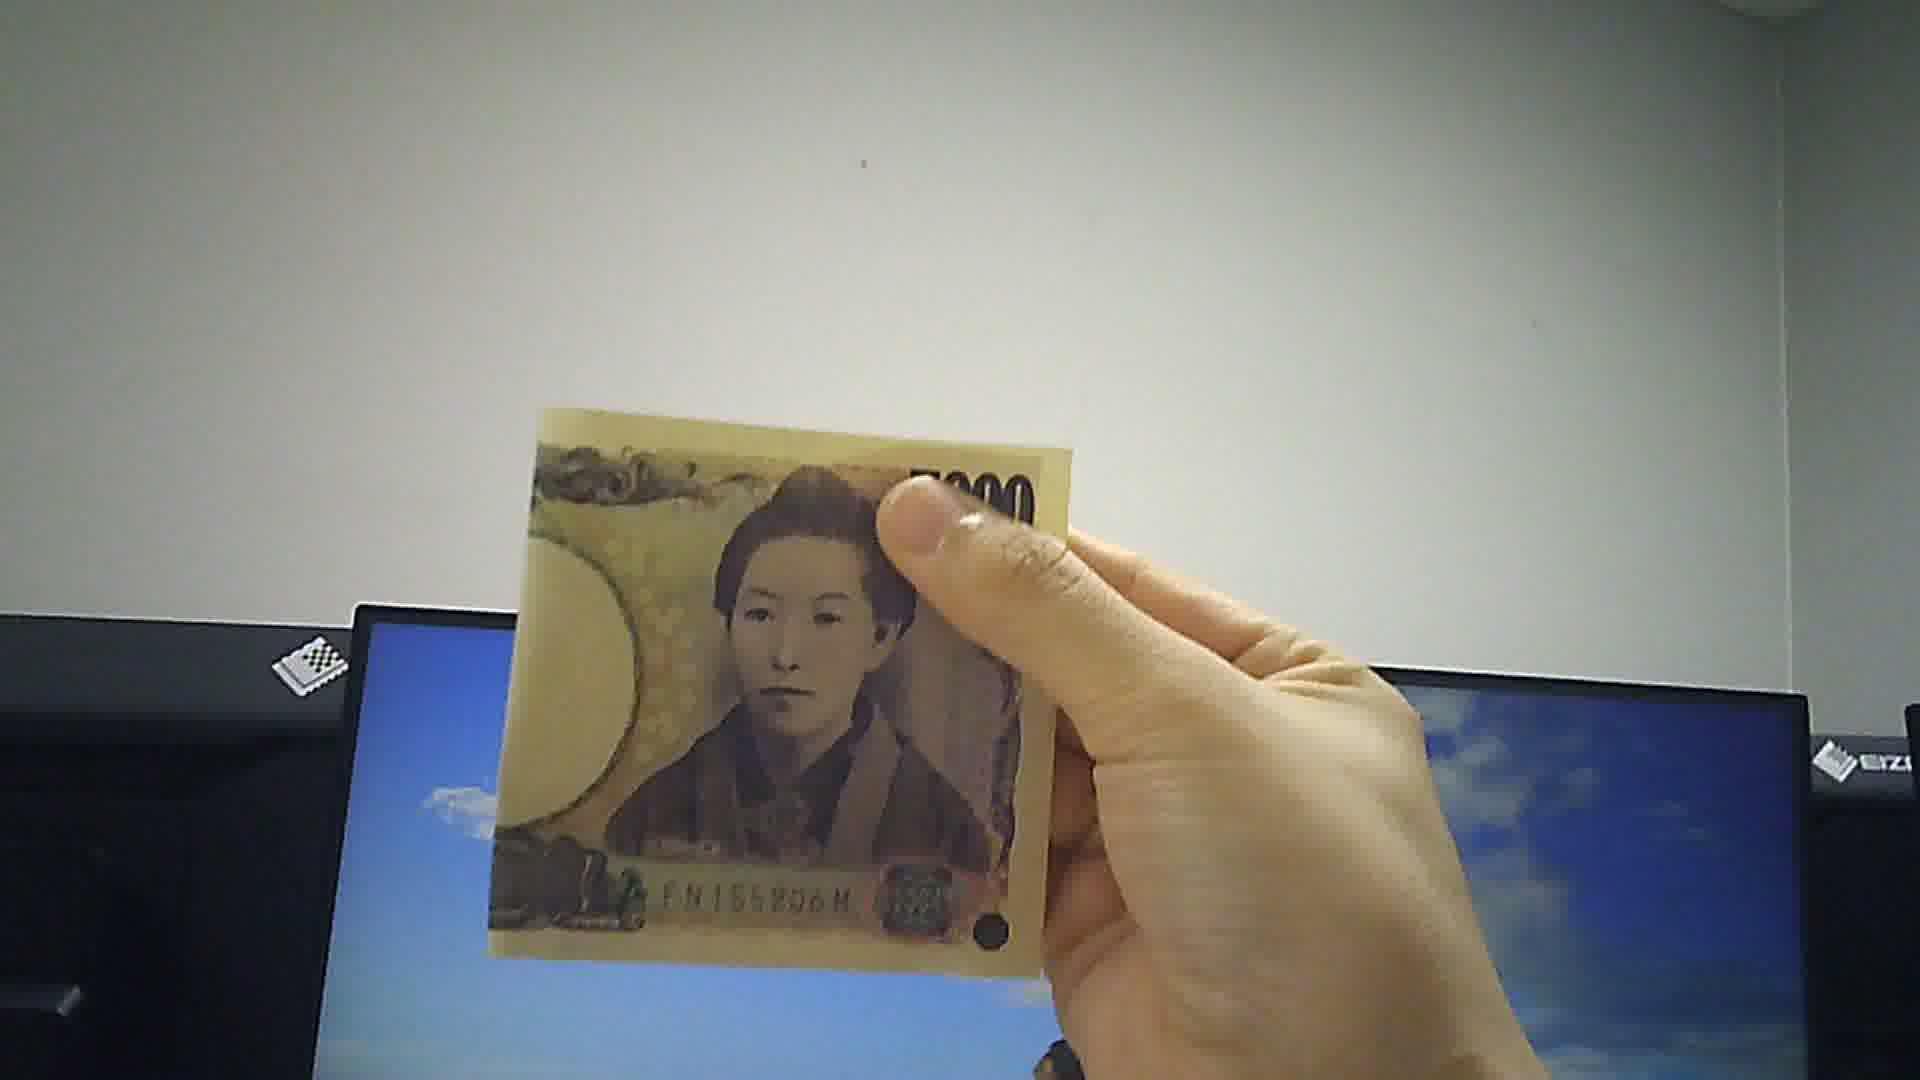5,000 Yen: (483, 407, 1069, 982)
